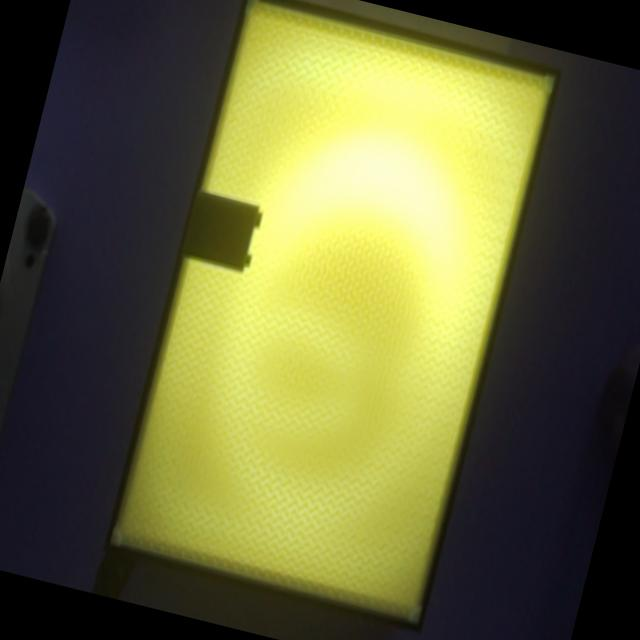bateria: (180, 188, 261, 273)
mesa: (102, 0, 561, 634)
